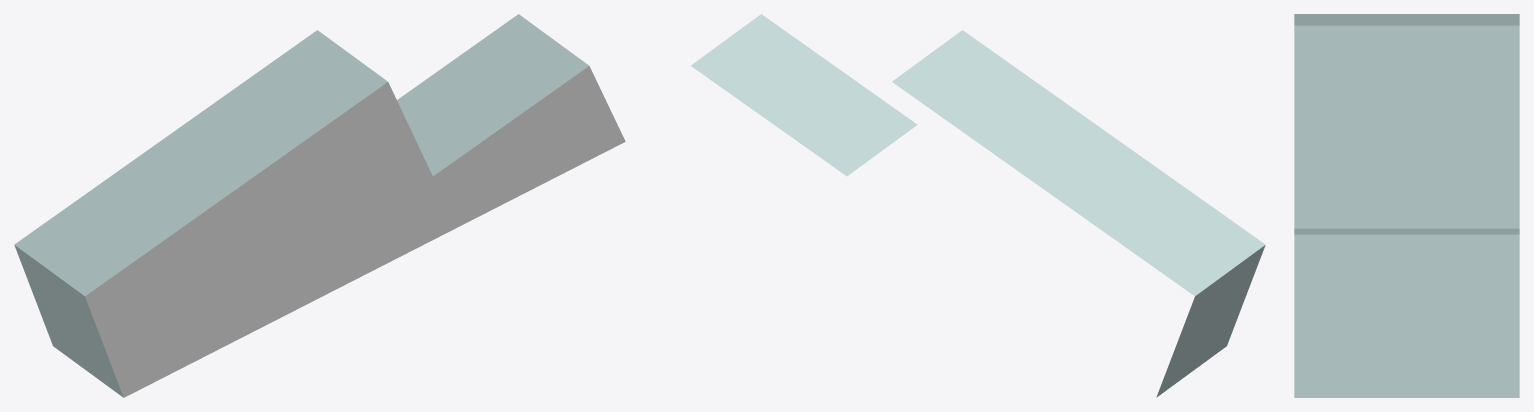
3 views of the same model, side by side, from view 1: azimuth 30°, elevation 25°; view 2: azimuth 150°, elevation 25°; view 3: azimuth 270°, elevation 25° (orthographic). The views are drawn at different scales.
Visible parts, largest first — view 1: 0_1_1_2_2_3_1_0_3; view 2: 0_1_1_2_2_3_1_0_3; view 3: 0_1_1_2_2_3_1_0_3.
Part boxes in pixels (x1,y1,x2,y2): 0_1_1_2_2_3_1_0_3: [14, 14, 625, 397]; 0_1_1_2_2_3_1_0_3: [691, 14, 1265, 397]; 0_1_1_2_2_3_1_0_3: [1294, 14, 1519, 397].
Size of the model in its own units: 13.24 by 5.89 by 3.
